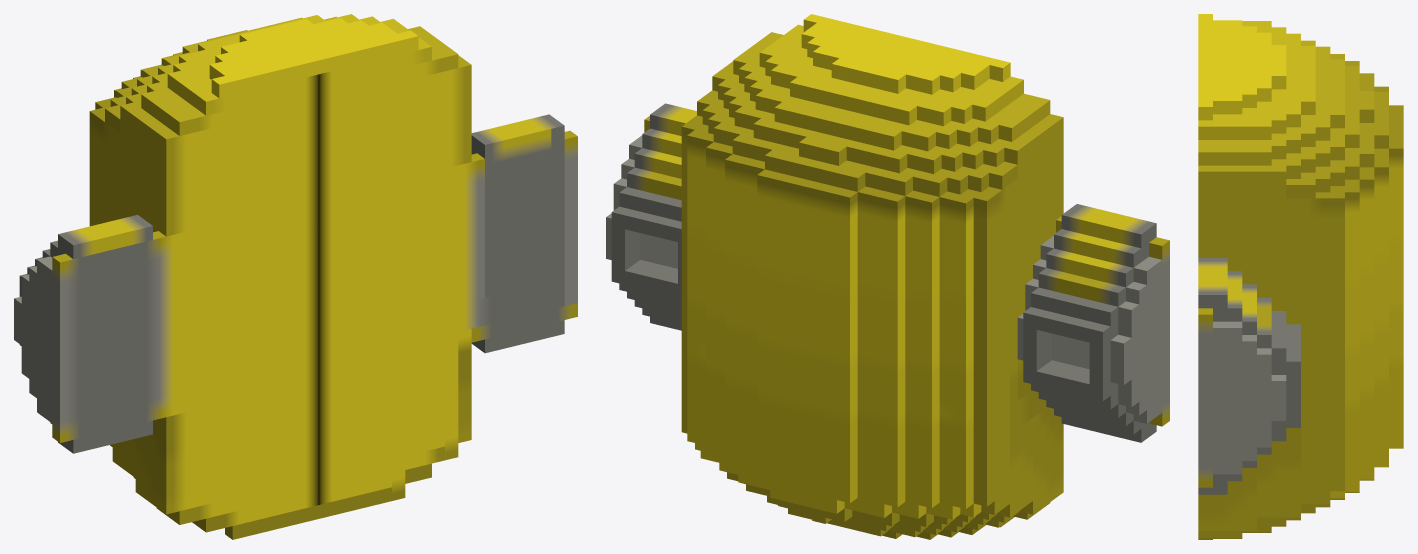
The model's file is Matrix_5.dae.
3 views of the same model, side by side, from view 1: azimuth 30°, elevation 25°; view 2: azimuth 150°, elevation 25°; view 3: azimuth 270°, elevation 25° (orthographic). The views are drawn at different scales.
Visible parts, largest first — view 1: Matrix_5; view 2: Matrix_5; view 3: Matrix_5.
Boxes of the visible parts, box(x1,y1,x2,y2) form: Matrix_5: box(14, 14, 577, 539); Matrix_5: box(606, 14, 1169, 539); Matrix_5: box(1198, 14, 1403, 539).
Bounding box in the file's own units: 39 × 33 × 14.
1 material, 1 textured.
